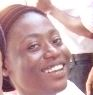without_facemask: (34, 53, 77, 86)
